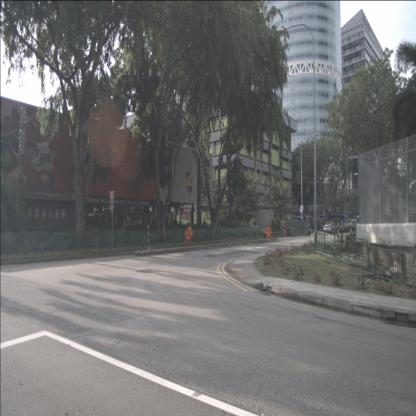human-pedestrian-adult: (307, 222, 311, 237), (282, 222, 285, 237)
vehicle-bus-rigid: (318, 214, 346, 229)
vehicle-car: (323, 222, 338, 234), (339, 223, 349, 233)
